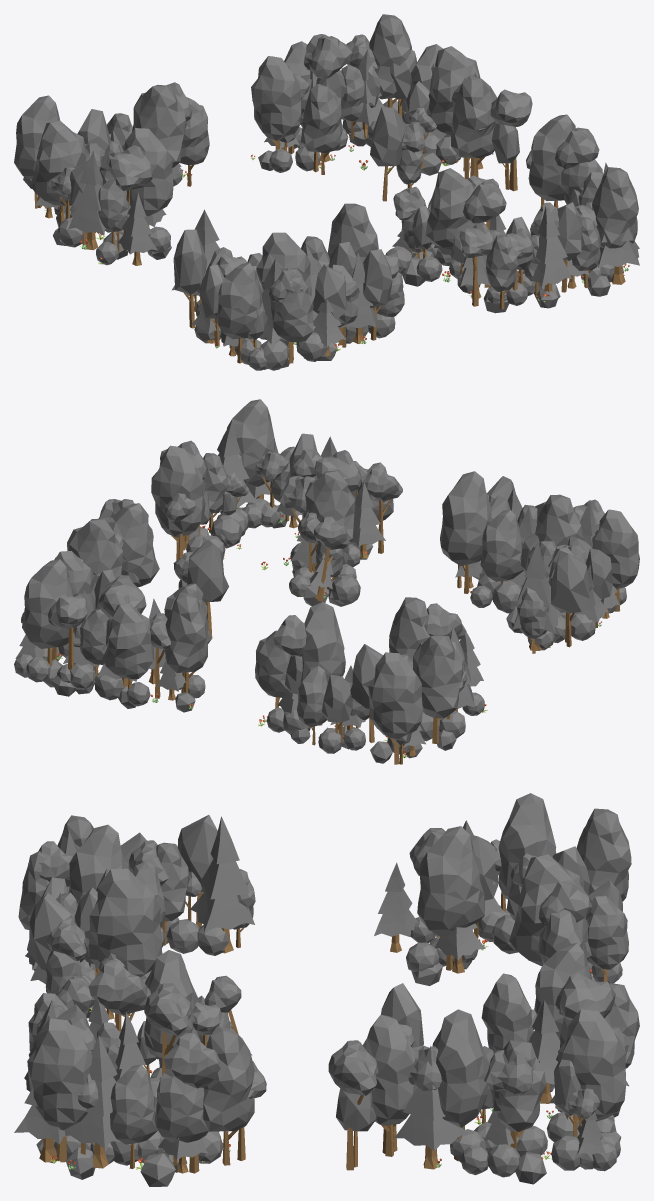
The model's file is Tile4Foliage.fbx.
3 views of the same model, one above another, from view 1: azimuth 30°, elevation 25°; view 2: azimuth 150°, elevation 25°; view 3: azimuth 270°, elevation 25° (orthographic). The views are drawn at different scales.
Parts seen in each view (by area): view 1: 6.002; view 2: 6.002; view 3: 6.002.
Part boxes in pixels (bbox=[...]): 6.002: bbox=[14, 14, 639, 370]; 6.002: bbox=[14, 399, 639, 764]; 6.002: bbox=[14, 793, 639, 1186].
Size of the model in its own units: 6997 by 2037 by 7103.
